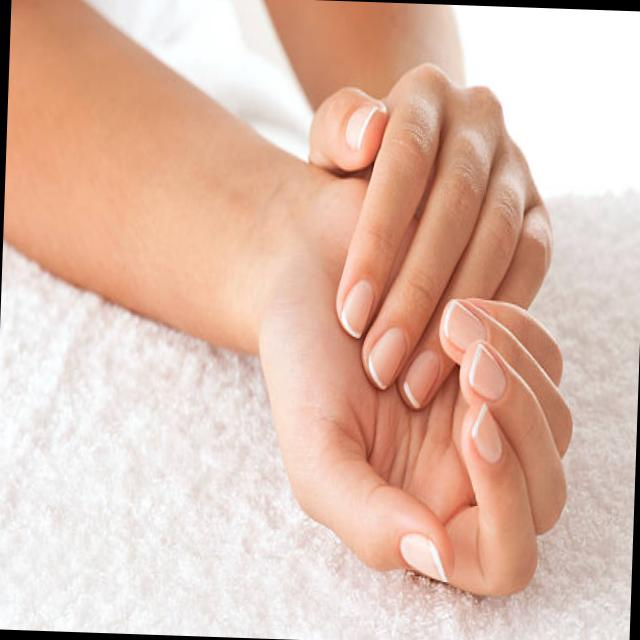Nail: (367, 328, 406, 389), (400, 533, 447, 581), (403, 349, 440, 407), (443, 300, 485, 351), (468, 344, 505, 401), (340, 280, 374, 338), (471, 402, 502, 463), (345, 104, 377, 151)
